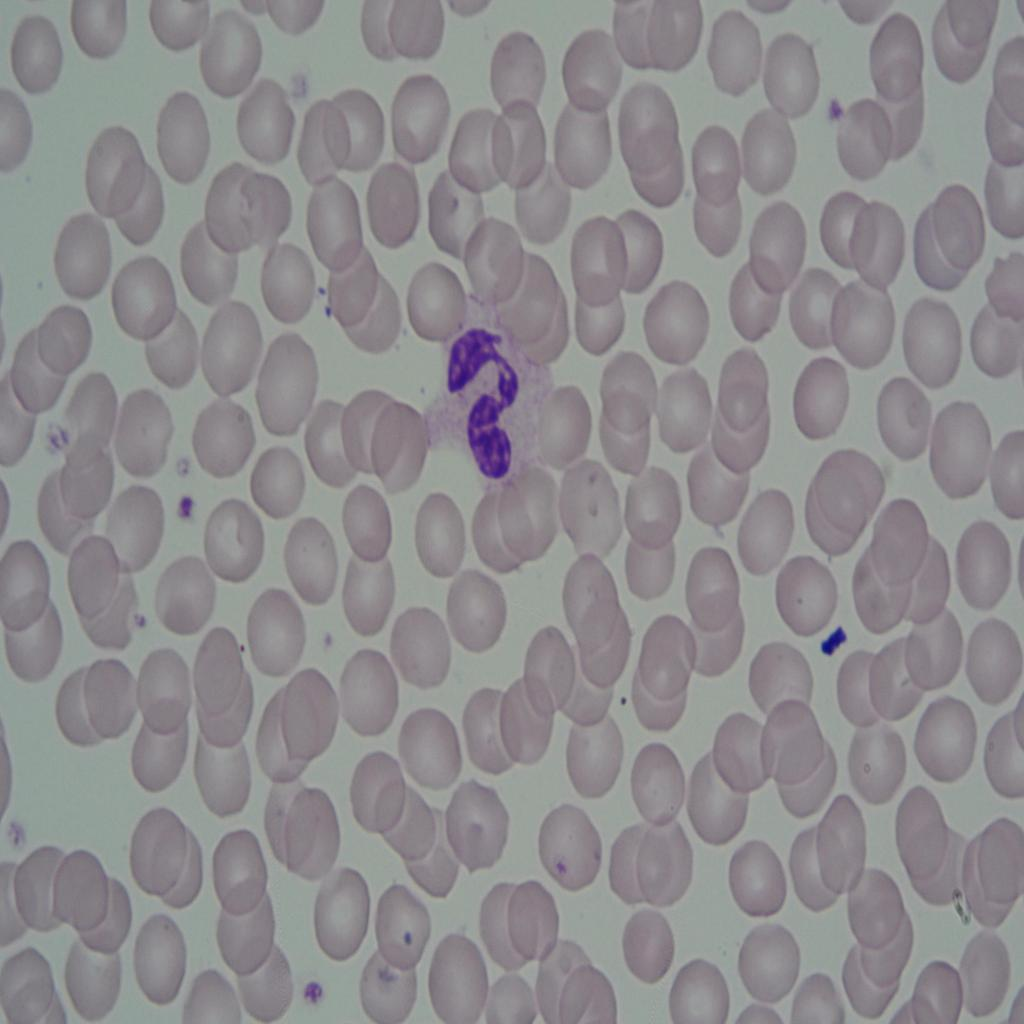Neutrofil: (426, 308, 565, 502)
Platelet: (170, 481, 204, 537), (392, 914, 430, 964), (818, 611, 845, 671), (823, 80, 849, 139), (294, 973, 332, 1013), (2, 820, 38, 853), (48, 420, 71, 463), (313, 618, 337, 658), (132, 603, 154, 643), (310, 276, 328, 300), (555, 853, 567, 878), (324, 302, 333, 325)
